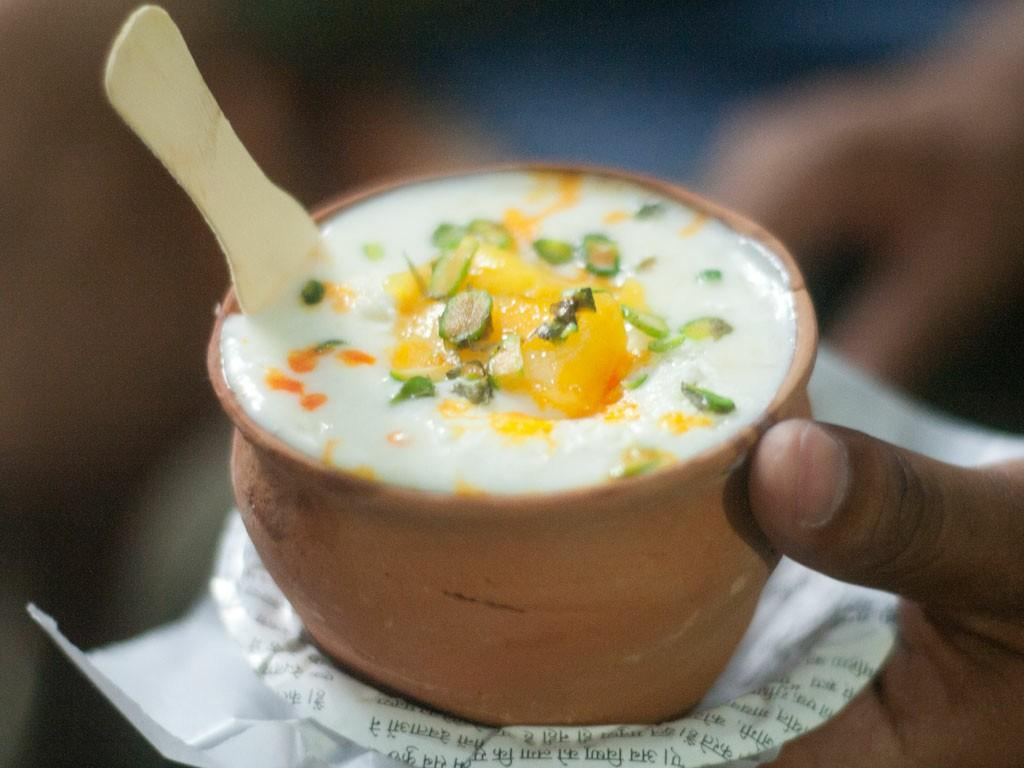Lassi: (218, 170, 797, 500)
